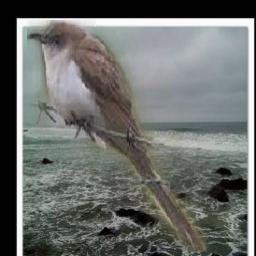Cuckoo: (27, 20, 206, 251)
